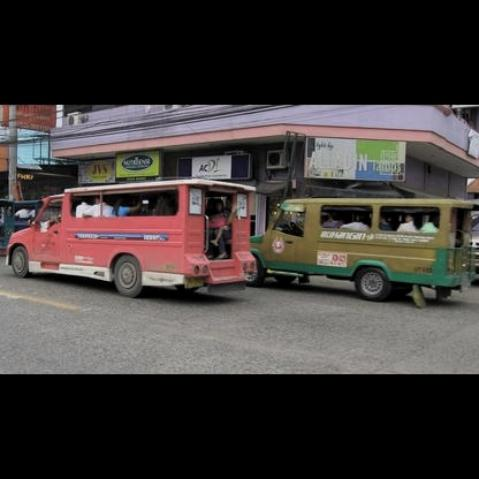jeepney: (5, 168, 252, 324), (245, 180, 472, 319)
